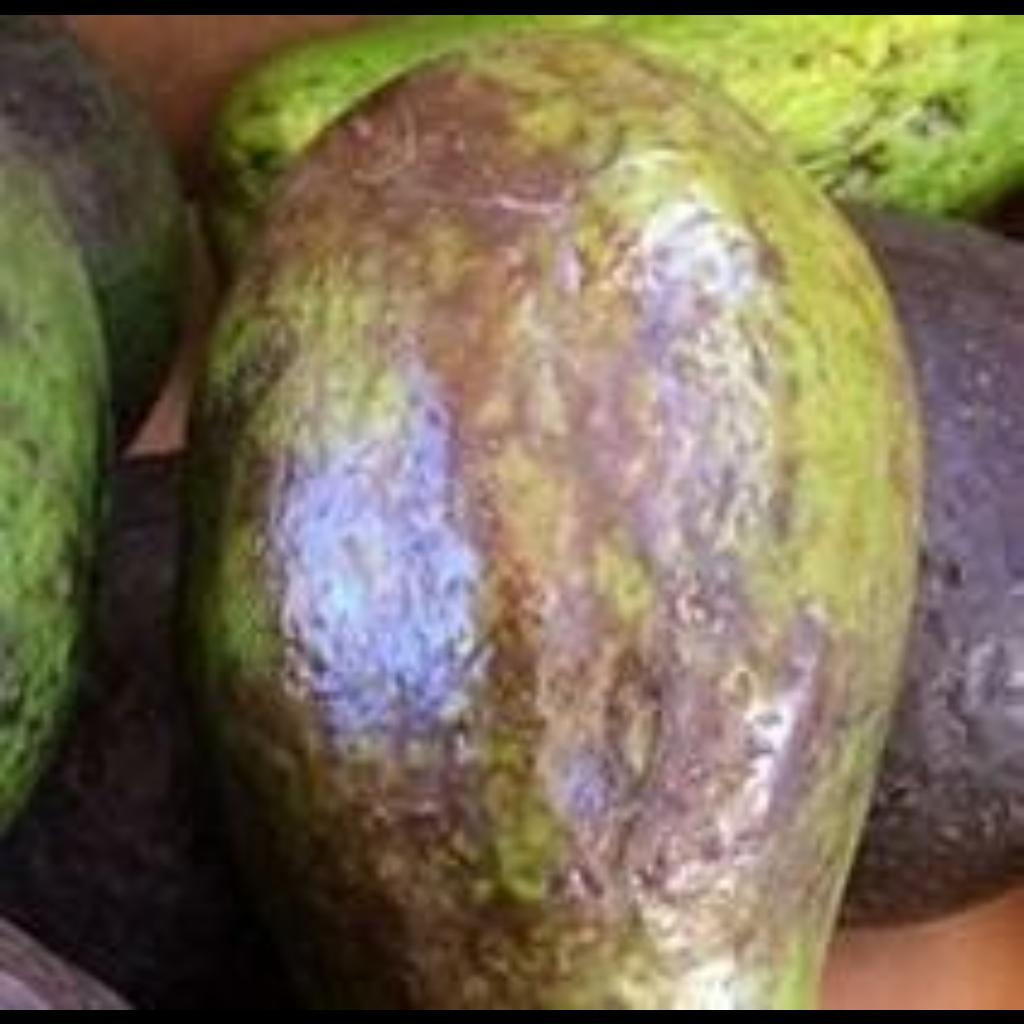Anthracnose: (208, 106, 928, 932)
